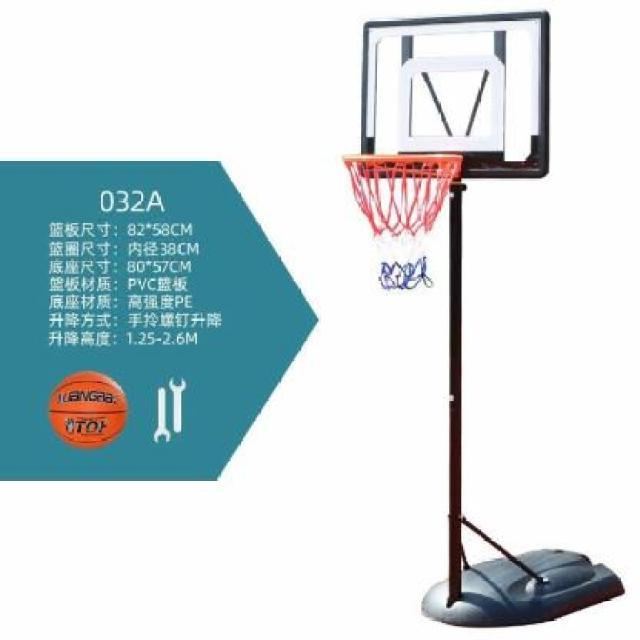basketball: (50, 372, 126, 448)
rim: (344, 156, 464, 290)
